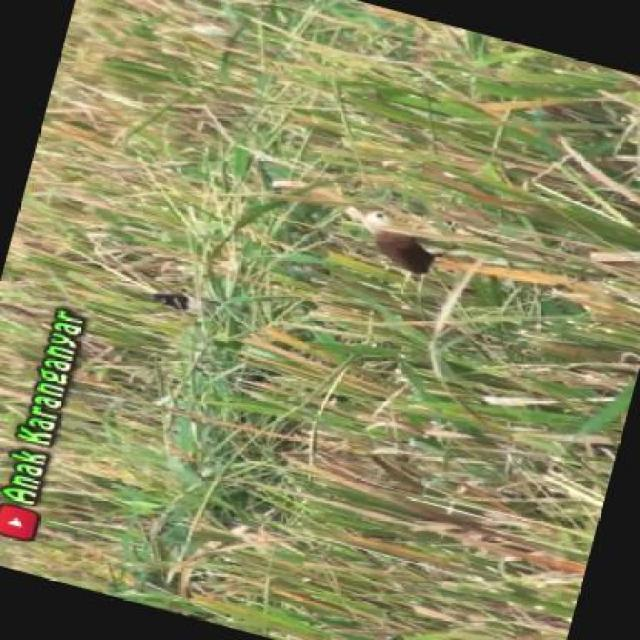Bird: (357, 201, 445, 285), (149, 294, 191, 311)
